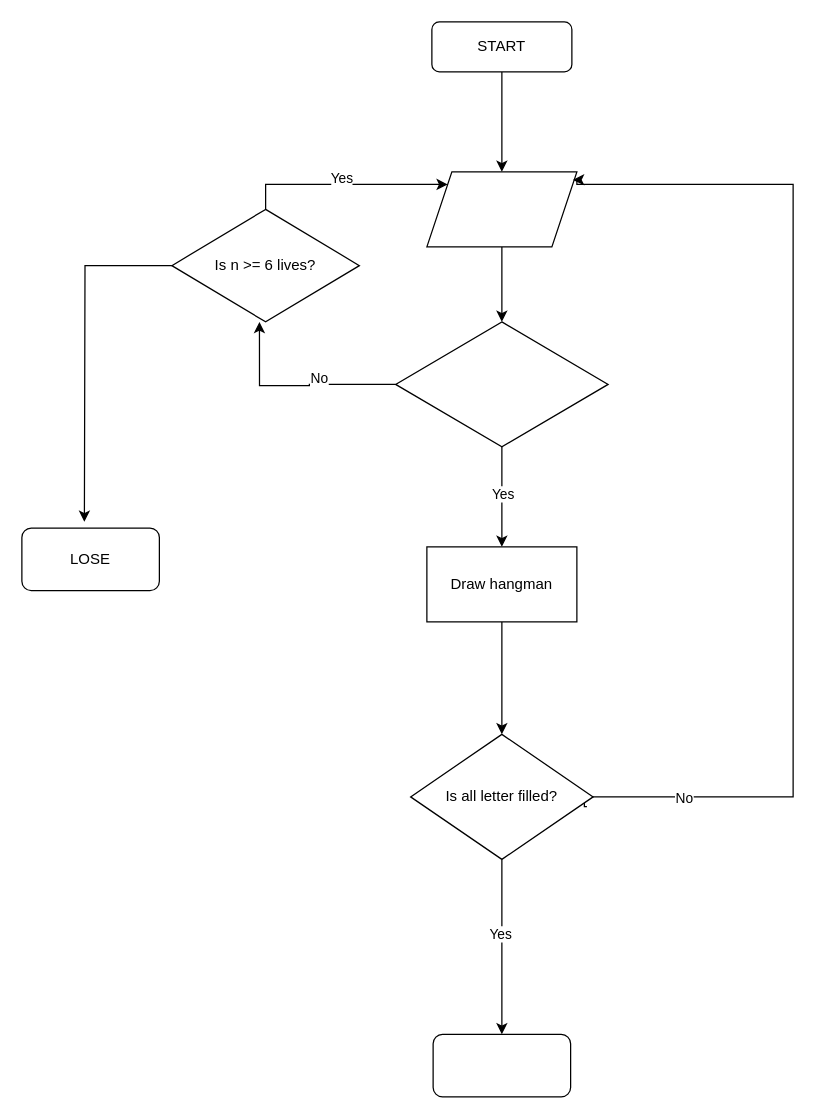
The diagram is 825 pixels wide and 1119 high, and some of its shapes have lost their labels. Each missing label, with the centre of its shape:
"Input one letter (n lives)" belongs at (501,209).
"is letter correct?" belongs at (501,384).
"WIN" belongs at (501,1065).
